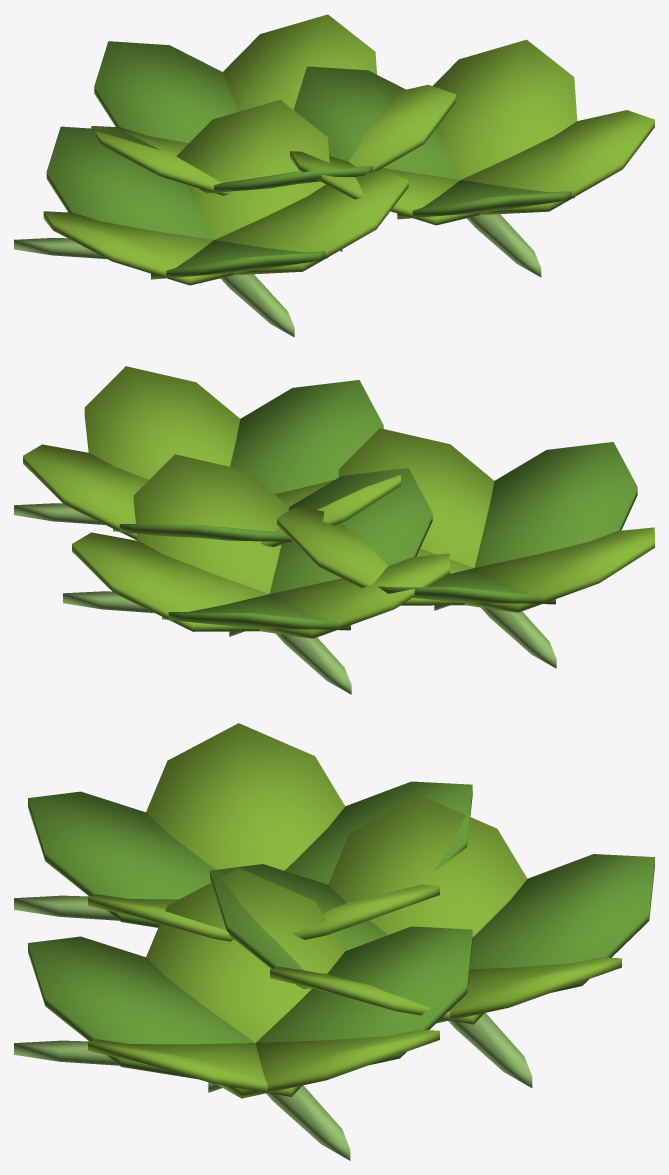
Rendered from stage_2_leaf.glb.
The picture shows the model from 3 angles, top to bottom: view 1: azimuth 30°, elevation 25°; view 2: azimuth 150°, elevation 25°; view 3: azimuth 270°, elevation 25°; orthographic projection. The views are drawn at different scales.
Parts seen in each view (by area): view 1: 大叶.005, 大叶, 大叶.001, 大叶.011, 大叶.009, 大叶.004, 大叶.010, 大叶.006, 大叶.002, 大叶.014, 大叶.007, 大叶.003 (+6 smaller); view 2: 大叶.003, 大叶.014, 大叶.009, 大叶.008, 大叶.004, 大叶.010, 大叶.013, 大叶.002, 大叶.012, 大叶.005, 大叶, 大叶.011 (+7 smaller); view 3: 大叶.002, 大叶.012, 大叶.007, 大叶.011, 大叶.008, 大叶.006, 大叶.003, 大叶.005, 大叶.001, 大叶.013, 大叶.009, 大叶.010 (+7 smaller).
Part boxes in pixels (x1,y1,x2,y2): 大叶.005: [432, 39, 577, 179]; 大叶: [176, 99, 329, 239]; 大叶.001: [46, 126, 213, 239]; 大叶.011: [94, 41, 239, 143]; 大叶.009: [461, 110, 654, 214]; 大叶.004: [214, 170, 408, 275]; 大叶.010: [223, 14, 376, 111]; 大叶.006: [293, 66, 460, 179]; 大叶.002: [43, 211, 233, 285]; 大叶.014: [348, 84, 456, 171]; 大叶.007: [290, 151, 479, 225]; 大叶.003: [151, 240, 328, 279]; 大叶.003: [474, 442, 637, 567]; 大叶.014: [133, 454, 289, 593]; 大叶.009: [84, 366, 240, 479]; 大叶.008: [230, 380, 383, 494]; 大叶.004: [338, 428, 494, 567]; 大叶.010: [72, 532, 268, 631]; 大叶.013: [269, 468, 432, 593]; 大叶.002: [464, 527, 654, 612]; 大叶.012: [259, 553, 449, 638]; 大叶.005: [23, 444, 148, 540]; 大叶: [277, 506, 473, 605]; 大叶.011: [162, 594, 350, 630]; 大叶.002: [146, 723, 345, 870]; 大叶.012: [328, 795, 527, 936]; 大叶.007: [146, 868, 345, 1042]; 大叶.011: [469, 854, 654, 992]; 大叶.008: [28, 936, 254, 1079]; 大叶.006: [256, 926, 472, 1065]; 大叶.003: [28, 791, 215, 927]; 大叶.005: [216, 1029, 439, 1098]; 大叶.001: [284, 781, 472, 884]; 大叶.013: [210, 864, 387, 988]; 大叶.009: [88, 1039, 301, 1096]; 大叶.010: [436, 957, 621, 1023].
Bounding box in the file's own units: 1.12 × 0.1626 × 0.8971.
Materials: 1 (1 with a texture image).
